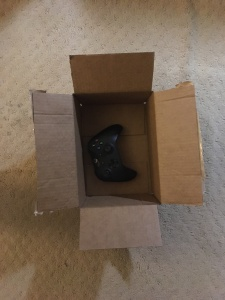innerbox: (72, 92, 161, 206)
outerbox: (32, 55, 203, 245)
product: (91, 124, 136, 182)
